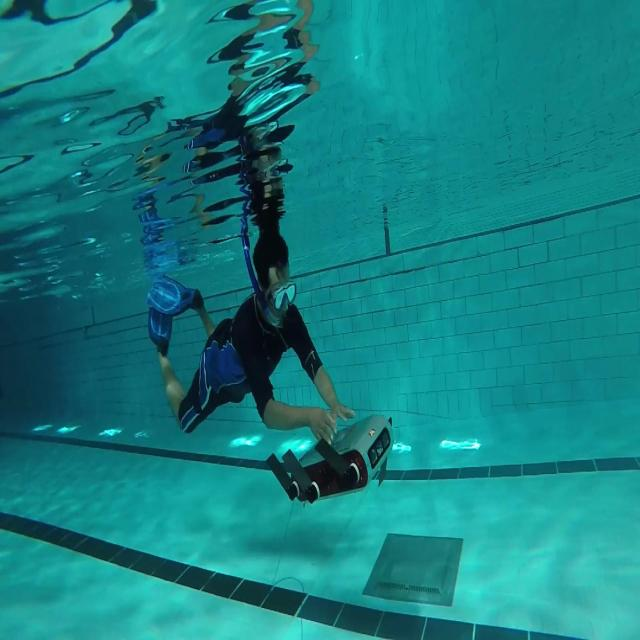human: (147, 186, 355, 446)
